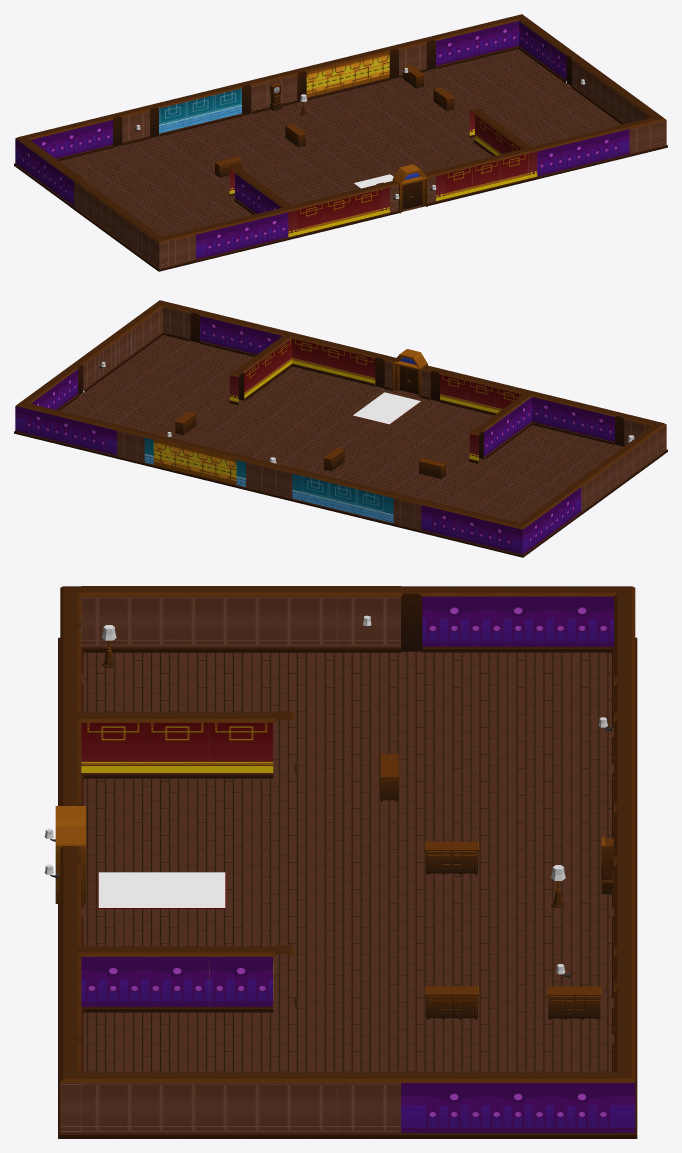
The model's file is Stage 2.fbx.
3 renders of one model, top to bottom at view 1: azimuth 30°, elevation 25°; view 2: azimuth 150°, elevation 25°; view 3: azimuth 270°, elevation 25°, orthographic. The views are drawn at different scales.
Visible parts, largest first — view 1: Final_Stage2; view 2: Final_Stage2; view 3: Final_Stage2.
Boxes of the visible parts, x1=… form: Final_Stage2: x1=14, y1=14, x2=667, y2=271; Final_Stage2: x1=14, y1=300, x2=667, y2=557; Final_Stage2: x1=44, y1=586, x2=637, y2=1138.
Bounding box in the file's own units: 5521 × 403 × 2783.
